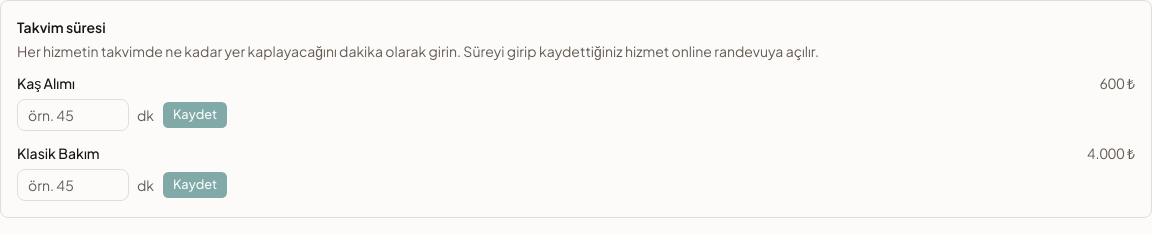
Test: the task list › one row per service, nothing pre-filled, save disabled until minutes are typed
The width and height of the screenshot is (1152, 235).
In the number field named "Kaş Alımı takvim süresi (dakika)": (73, 115) [17,99,129,131], type "20"
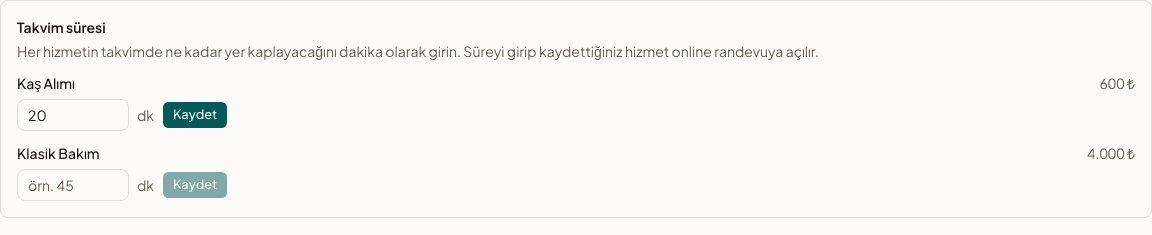
Expected: the button "Kaydet" below "Klasik Bakım" is disabled, [162,171,228,199]
Result: the button "Kaydet" below "Kaş Alımı" is enabled at [162,101,228,129]
